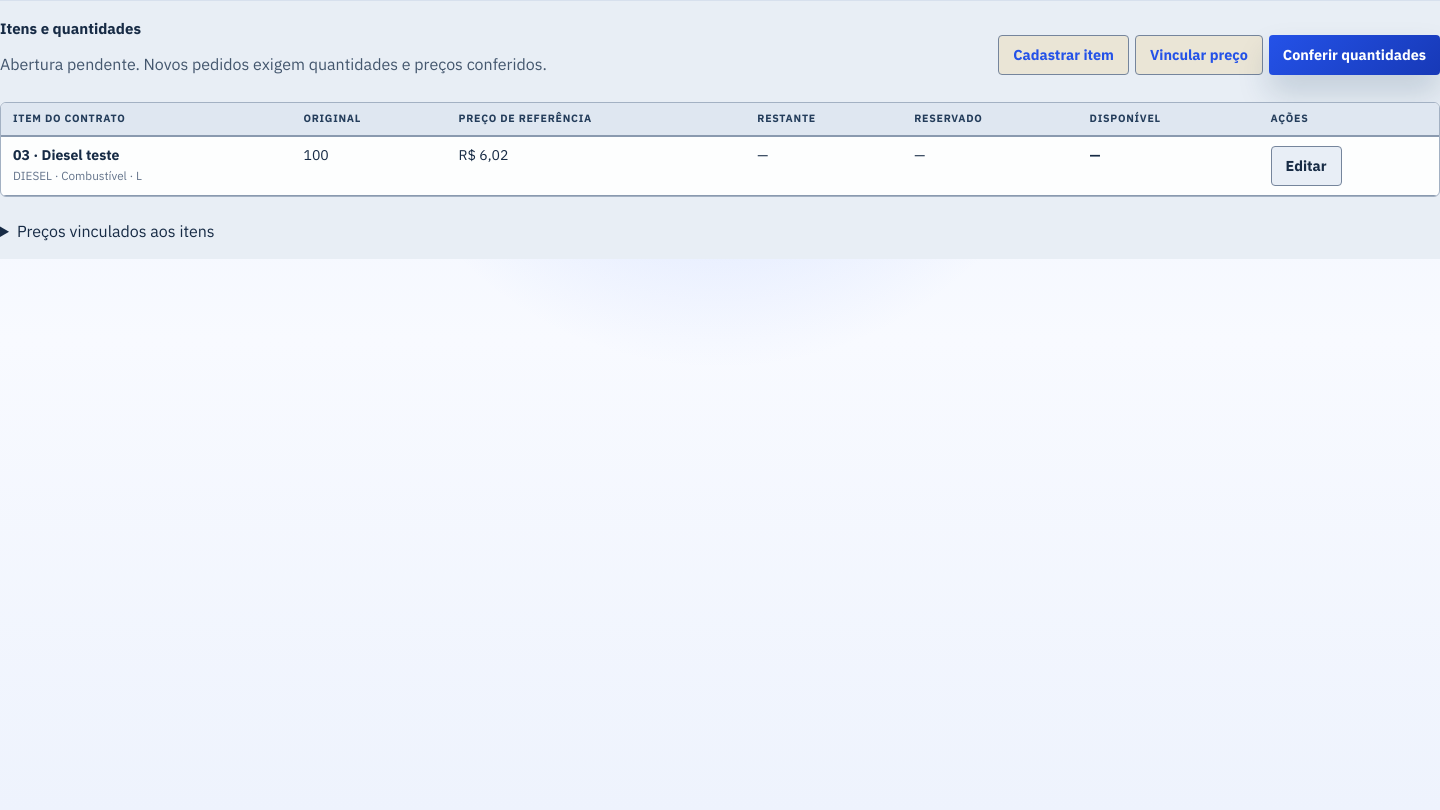
antecipa itens sem preço vigente sem tratar versões históricas ou futuras como válidas
Click the button "Conferir quantidades" at (1354, 54), box top-left (1269, 34), bottom-right (1439, 74)
(page scrolled)
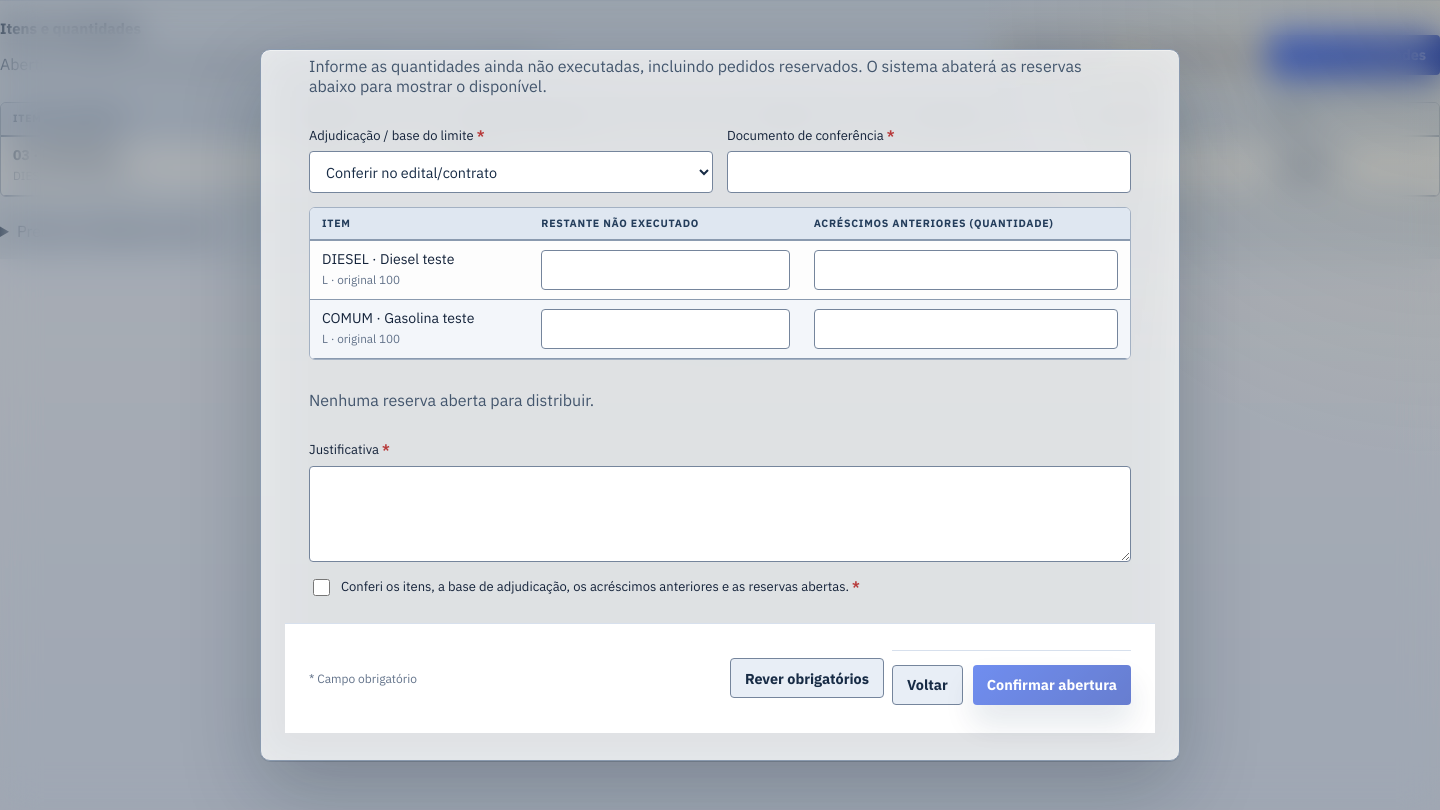
Expected: the button "Confirmar abertura" is disabled, top-left (973, 665), bottom-right (1131, 705)
